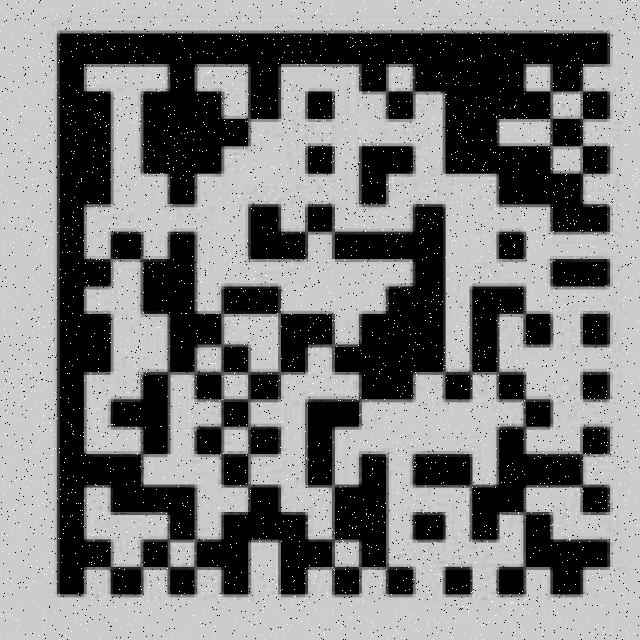datamatrix: (42, 18, 631, 613)
